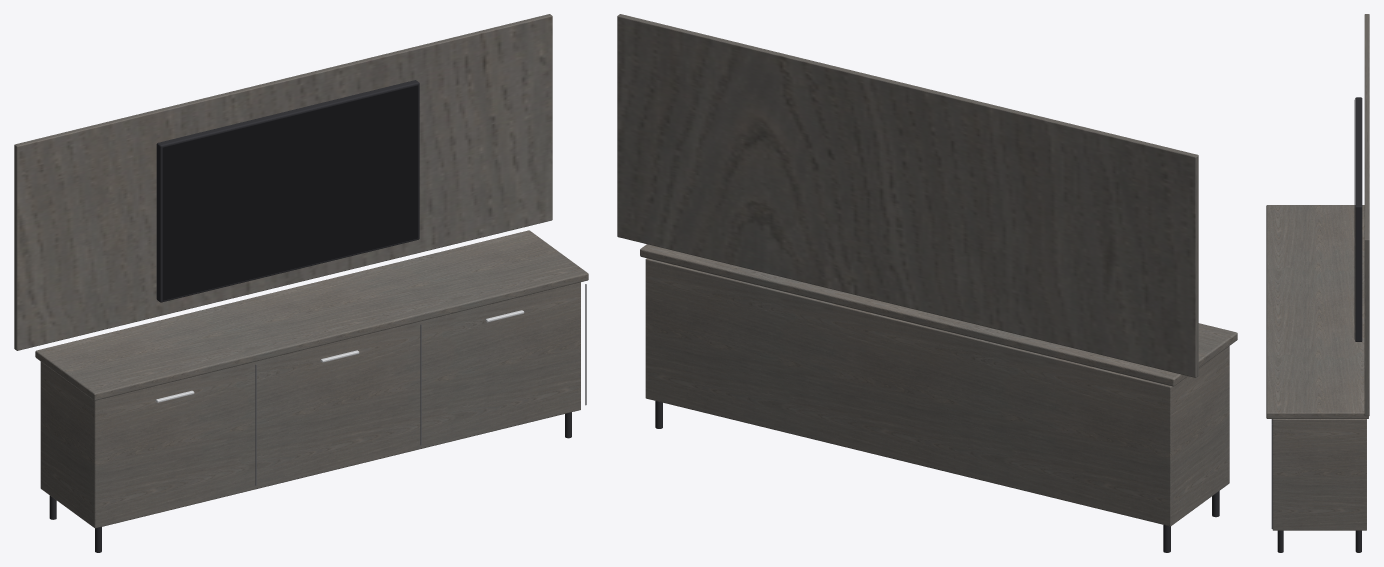
Rendered from hotel-credenza-tv.glb.
The picture shows the model from 3 angles, left to right: view 1: azimuth 30°, elevation 25°; view 2: azimuth 150°, elevation 25°; view 3: azimuth 270°, elevation 25°; orthographic projection. The views are drawn at different scales.
Parts seen in each view (by area): view 1: wall_panel, body, tv_screen, top, tv_body; view 2: wall_panel, body, top; view 3: top, body, wall_panel, tv_body, tv_screen, gap2, leg.002, leg.003.
Boxes of the visible parts, x1=… form: wall_panel: x1=14, y1=14, x2=552, y2=350; body: x1=40, y1=282, x2=580, y2=528; tv_screen: x1=162, y1=85, x2=418, y2=300; top: x1=35, y1=230, x2=588, y2=400; tv_body: x1=156, y1=80, x2=419, y2=302; wall_panel: x1=617, y1=14, x2=1198, y2=377; body: x1=645, y1=258, x2=1229, y2=526; top: x1=640, y1=244, x2=1237, y2=386; top: x1=1266, y1=205, x2=1368, y2=418; body: x1=1272, y1=419, x2=1366, y2=530; wall_panel: x1=1364, y1=14, x2=1369, y2=416; tv_body: x1=1355, y1=97, x2=1362, y2=341; tv_screen: x1=1354, y1=100, x2=1354, y2=339; gap2: x1=1271, y1=424, x2=1272, y2=528; leg.002: x1=1277, y1=530, x2=1283, y2=552; leg.003: x1=1355, y1=530, x2=1361, y2=552.
Bounding box in the file's own units: 2.6 × 1.75 × 0.5025.
Materials: 6 (2 with a texture image).
